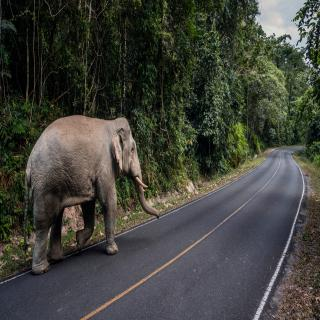Elephant: (21, 111, 163, 274)
